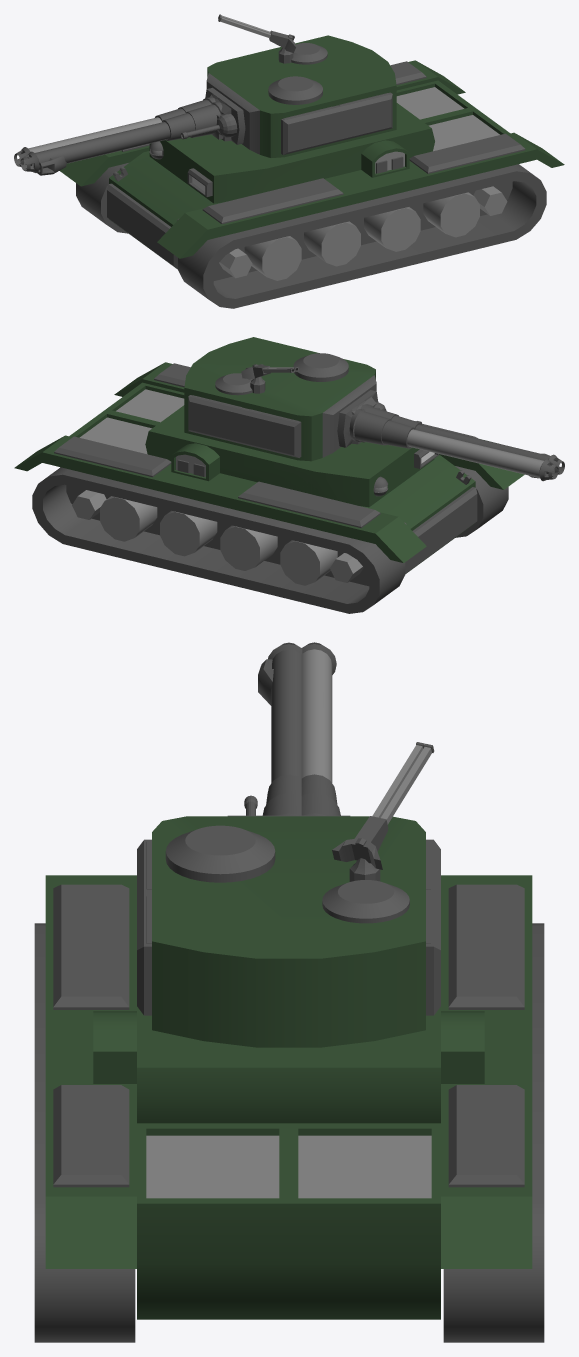
File: tank_var3_tier1-3.fbx
3 views of the same model, one above another, from view 1: azimuth 30°, elevation 25°; view 2: azimuth 150°, elevation 25°; view 3: azimuth 270°, elevation 25° (orthographic). The views are drawn at different scales.
Visible parts, largest first — view 1: body_1, wheel, head_1, body_2, head_2, gun_1, gun_2, head_3, gun_3; view 2: body_1, wheel, head_1, body_2, gun_2, head_2, gun_1, head_3; view 3: body_1, head_1, body_2, wheel, gun_2, gun_1, head_3, head_2.
Boxes of the visible parts, bbox=[...] form: body_1: bbox=[59, 60, 564, 269]; wheel: bbox=[76, 163, 546, 308]; head_1: bbox=[206, 35, 396, 157]; body_2: bbox=[107, 61, 525, 268]; head_2: bbox=[281, 92, 392, 154]; gun_1: bbox=[20, 91, 238, 172]; gun_2: bbox=[14, 87, 245, 166]; head_3: bbox=[218, 14, 388, 119]; gun_3: bbox=[37, 94, 231, 175]; body_1: bbox=[14, 362, 524, 573]; wheel: bbox=[32, 466, 508, 613]; head_1: bbox=[184, 337, 376, 461]; body_2: bbox=[54, 363, 478, 573]; gun_2: bbox=[337, 390, 558, 481]; head_2: bbox=[188, 395, 301, 457]; gun_1: bbox=[344, 393, 564, 474]; head_3: bbox=[192, 364, 298, 422]; body_1: bbox=[45, 875, 532, 1319]; head_1: bbox=[152, 816, 425, 1047]; body_2: bbox=[53, 884, 524, 1187]; wheel: bbox=[34, 923, 544, 1342]; gun_2: bbox=[228, 642, 349, 816]; gun_1: bbox=[245, 642, 332, 816]; head_3: bbox=[146, 742, 434, 943]; head_2: bbox=[137, 839, 440, 1015].
Size of the model in its own units: 1459 by 583 by 670.
